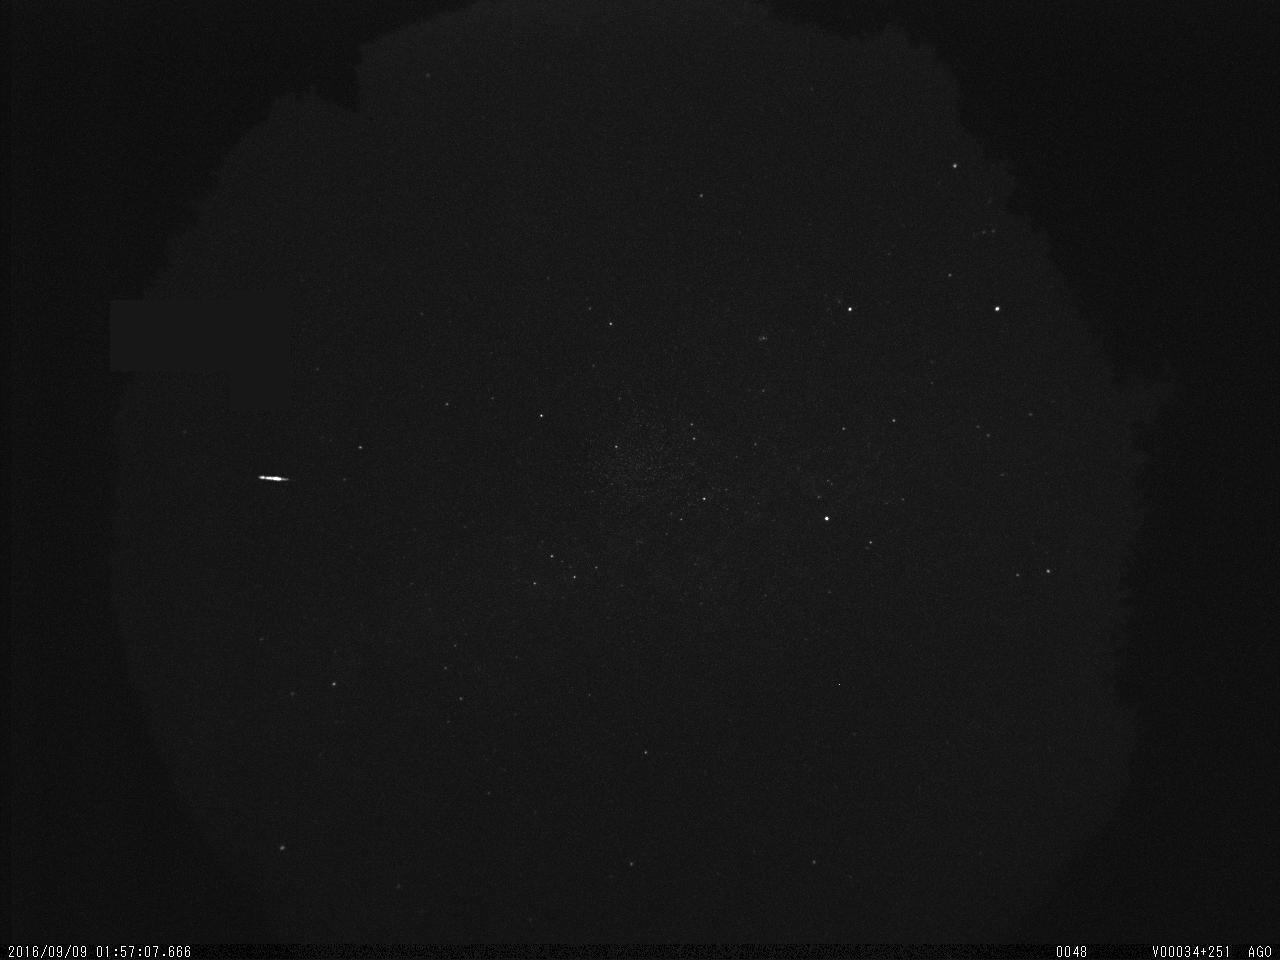Meteor: (257, 473, 289, 483)
